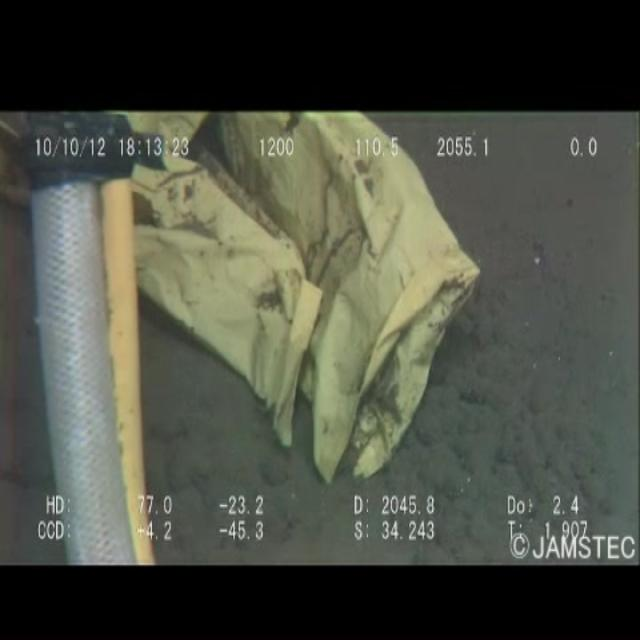Accessories: (132, 110, 486, 508)
